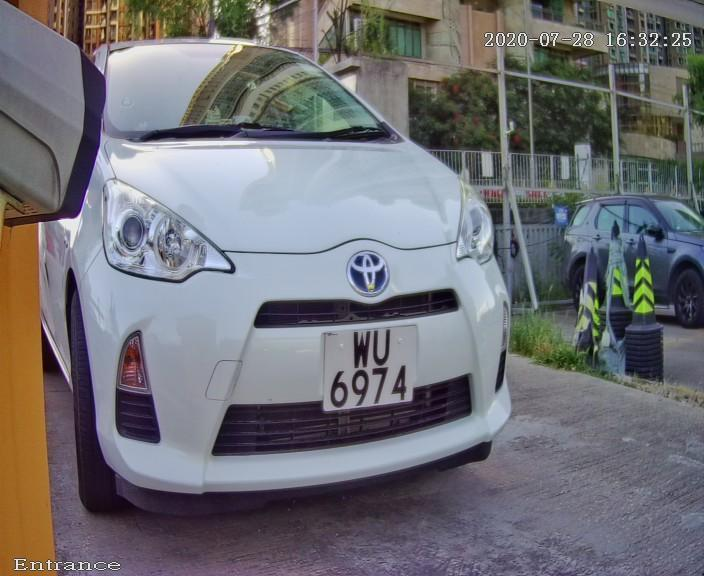privatecar: (26, 21, 598, 528)
